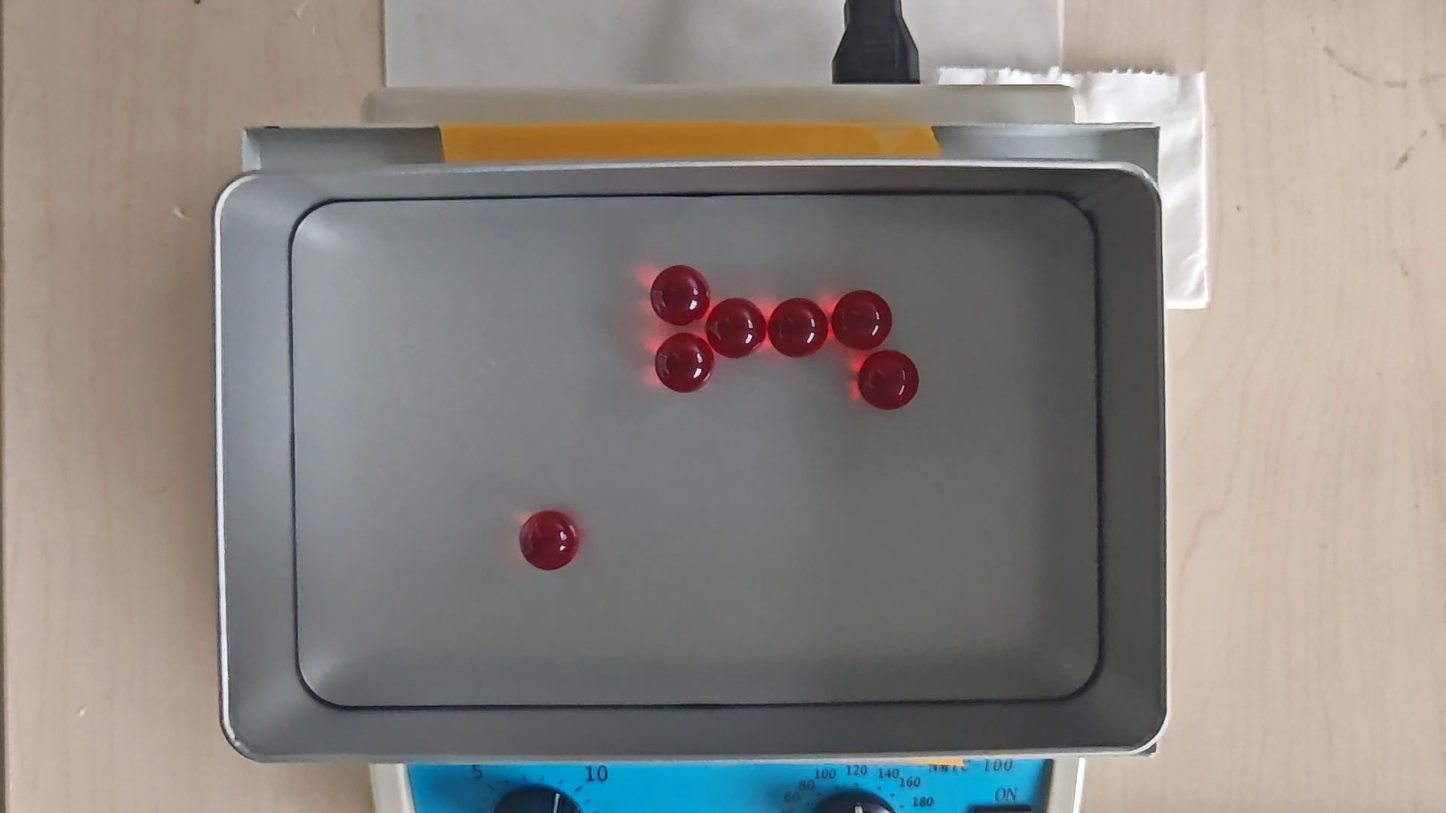ball: (650, 263, 712, 327), (857, 349, 921, 411), (518, 510, 580, 572), (706, 296, 765, 361), (769, 297, 829, 360), (832, 289, 892, 350), (654, 332, 714, 392)
container: (289, 196, 1103, 705)
